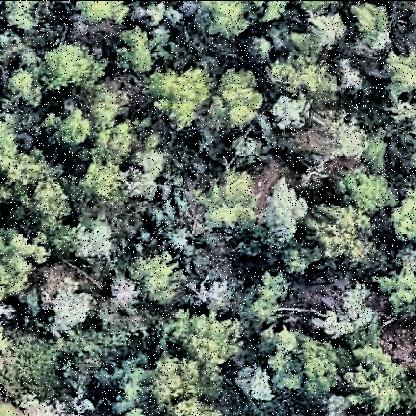tree-top: (154, 306, 237, 416), (257, 325, 349, 405), (2, 148, 72, 228), (146, 59, 212, 131), (351, 345, 413, 416), (307, 206, 373, 272), (334, 165, 402, 223), (32, 43, 108, 94), (203, 170, 259, 236), (261, 179, 309, 247), (376, 244, 416, 325), (1, 224, 45, 289), (215, 70, 261, 130), (243, 265, 295, 316), (137, 252, 184, 307), (269, 59, 337, 97), (114, 28, 156, 81), (44, 112, 94, 156), (49, 285, 93, 334), (2, 60, 40, 110), (198, 3, 247, 41), (356, 2, 392, 51), (379, 55, 416, 99), (392, 185, 416, 247), (83, 166, 123, 201), (76, 2, 128, 28), (46, 221, 78, 255)
